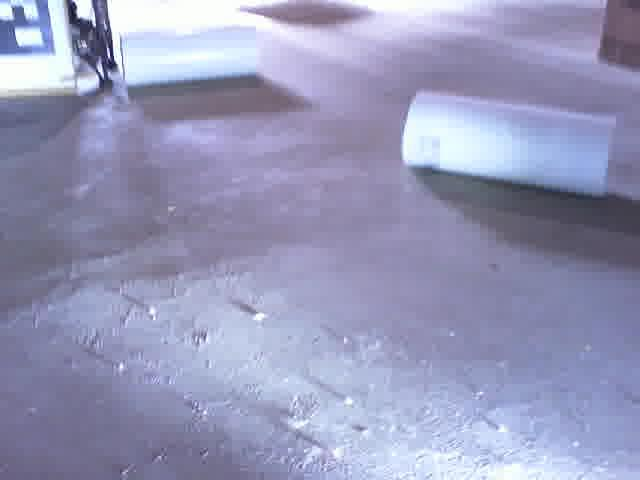coral: (399, 89, 621, 202), (119, 13, 262, 94)
